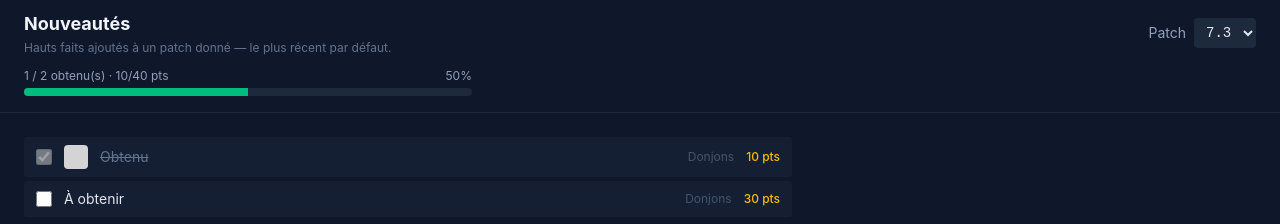
NewPatchView › switches patch and shows the empty state
Expected: the button "Obtenu" is shown, [100, 147, 676, 167]
Select "7.2" in the dropdown at (1225, 33), box [1194, 18, 1256, 48]
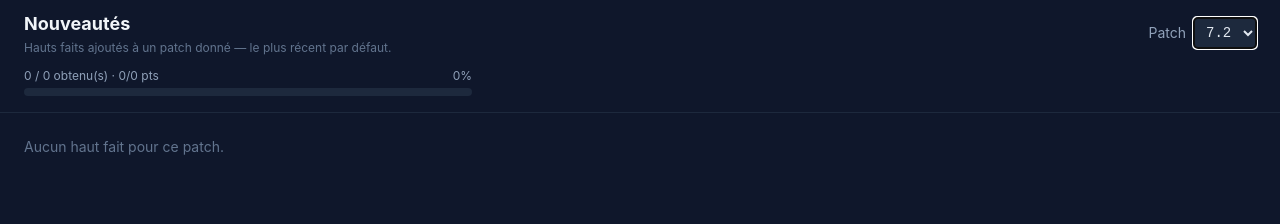
Result: the text "Aucun haut fait pour ce patch." is shown at [24, 138, 224, 155]
